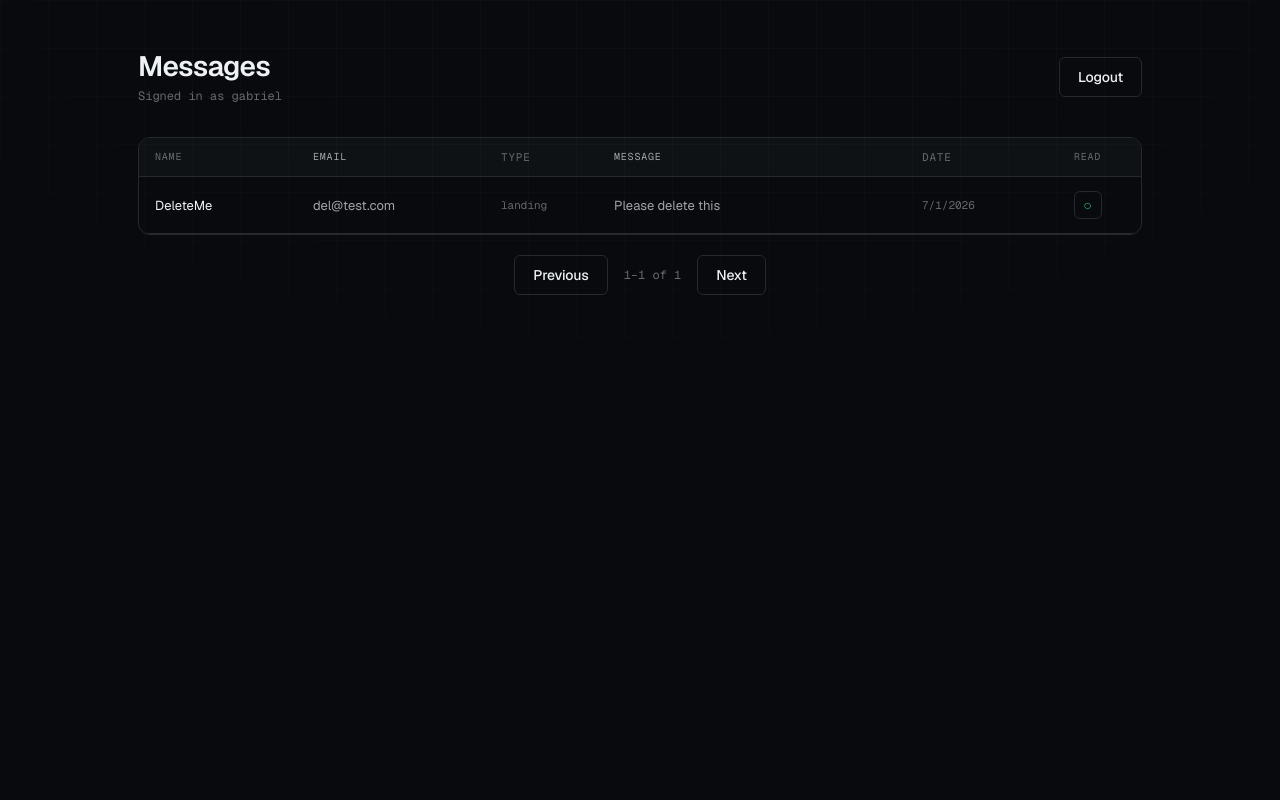
Test: Delete message › deletes a message via detail panel and removes the row
// Wait for the row to render, then click it to open detail
Click the text "DeleteMe" at (184, 205), box top-left (155, 196), bottom-right (212, 214)
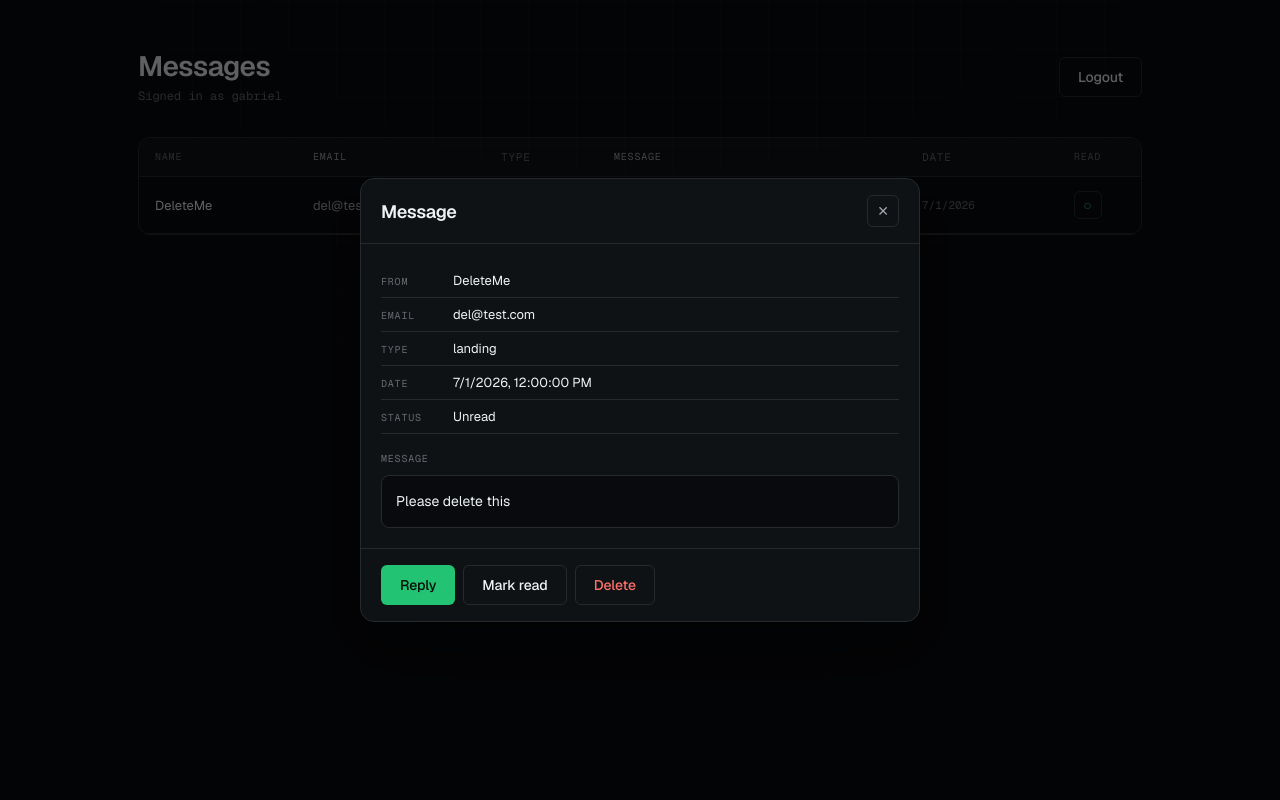
// Detail panel should show
Click the button with aria-label "delete message" at (615, 585), box top-left (575, 565), bottom-right (655, 605)
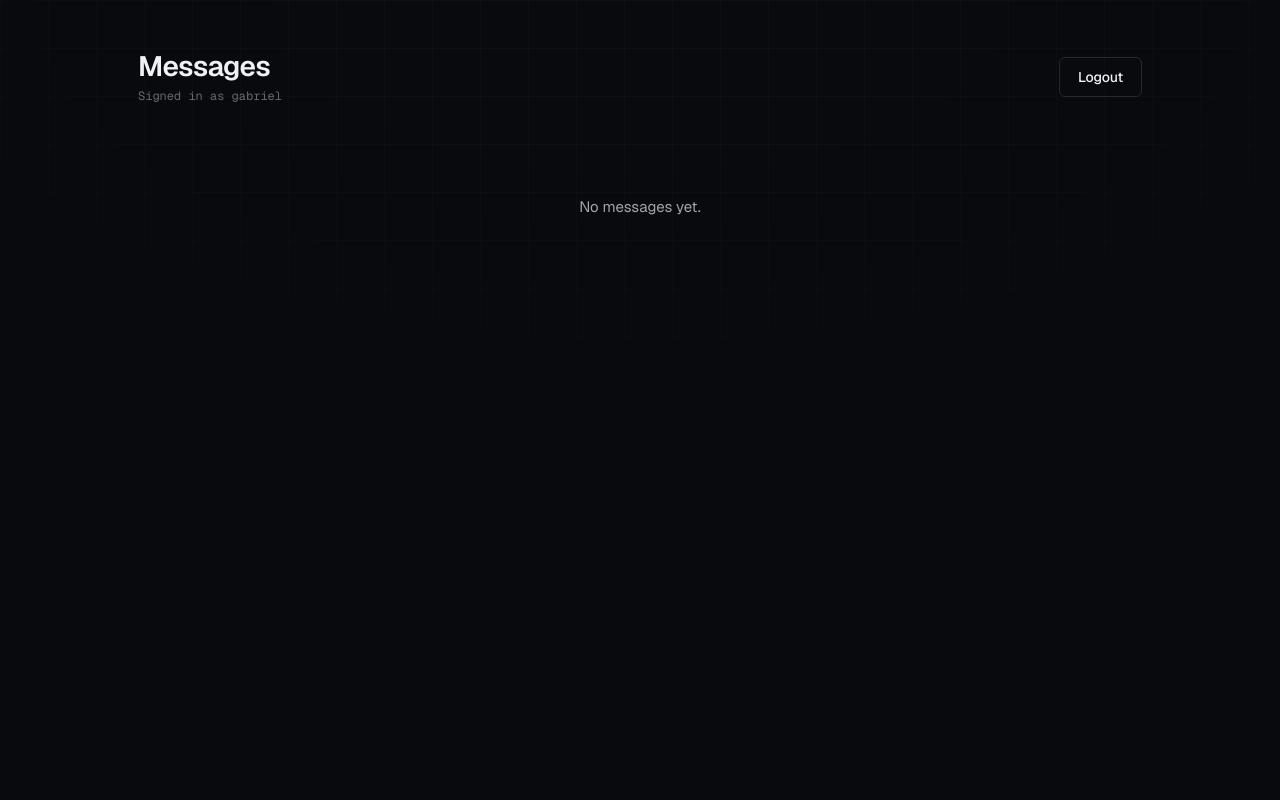
expect the button "DeleteMe" is gone: met
